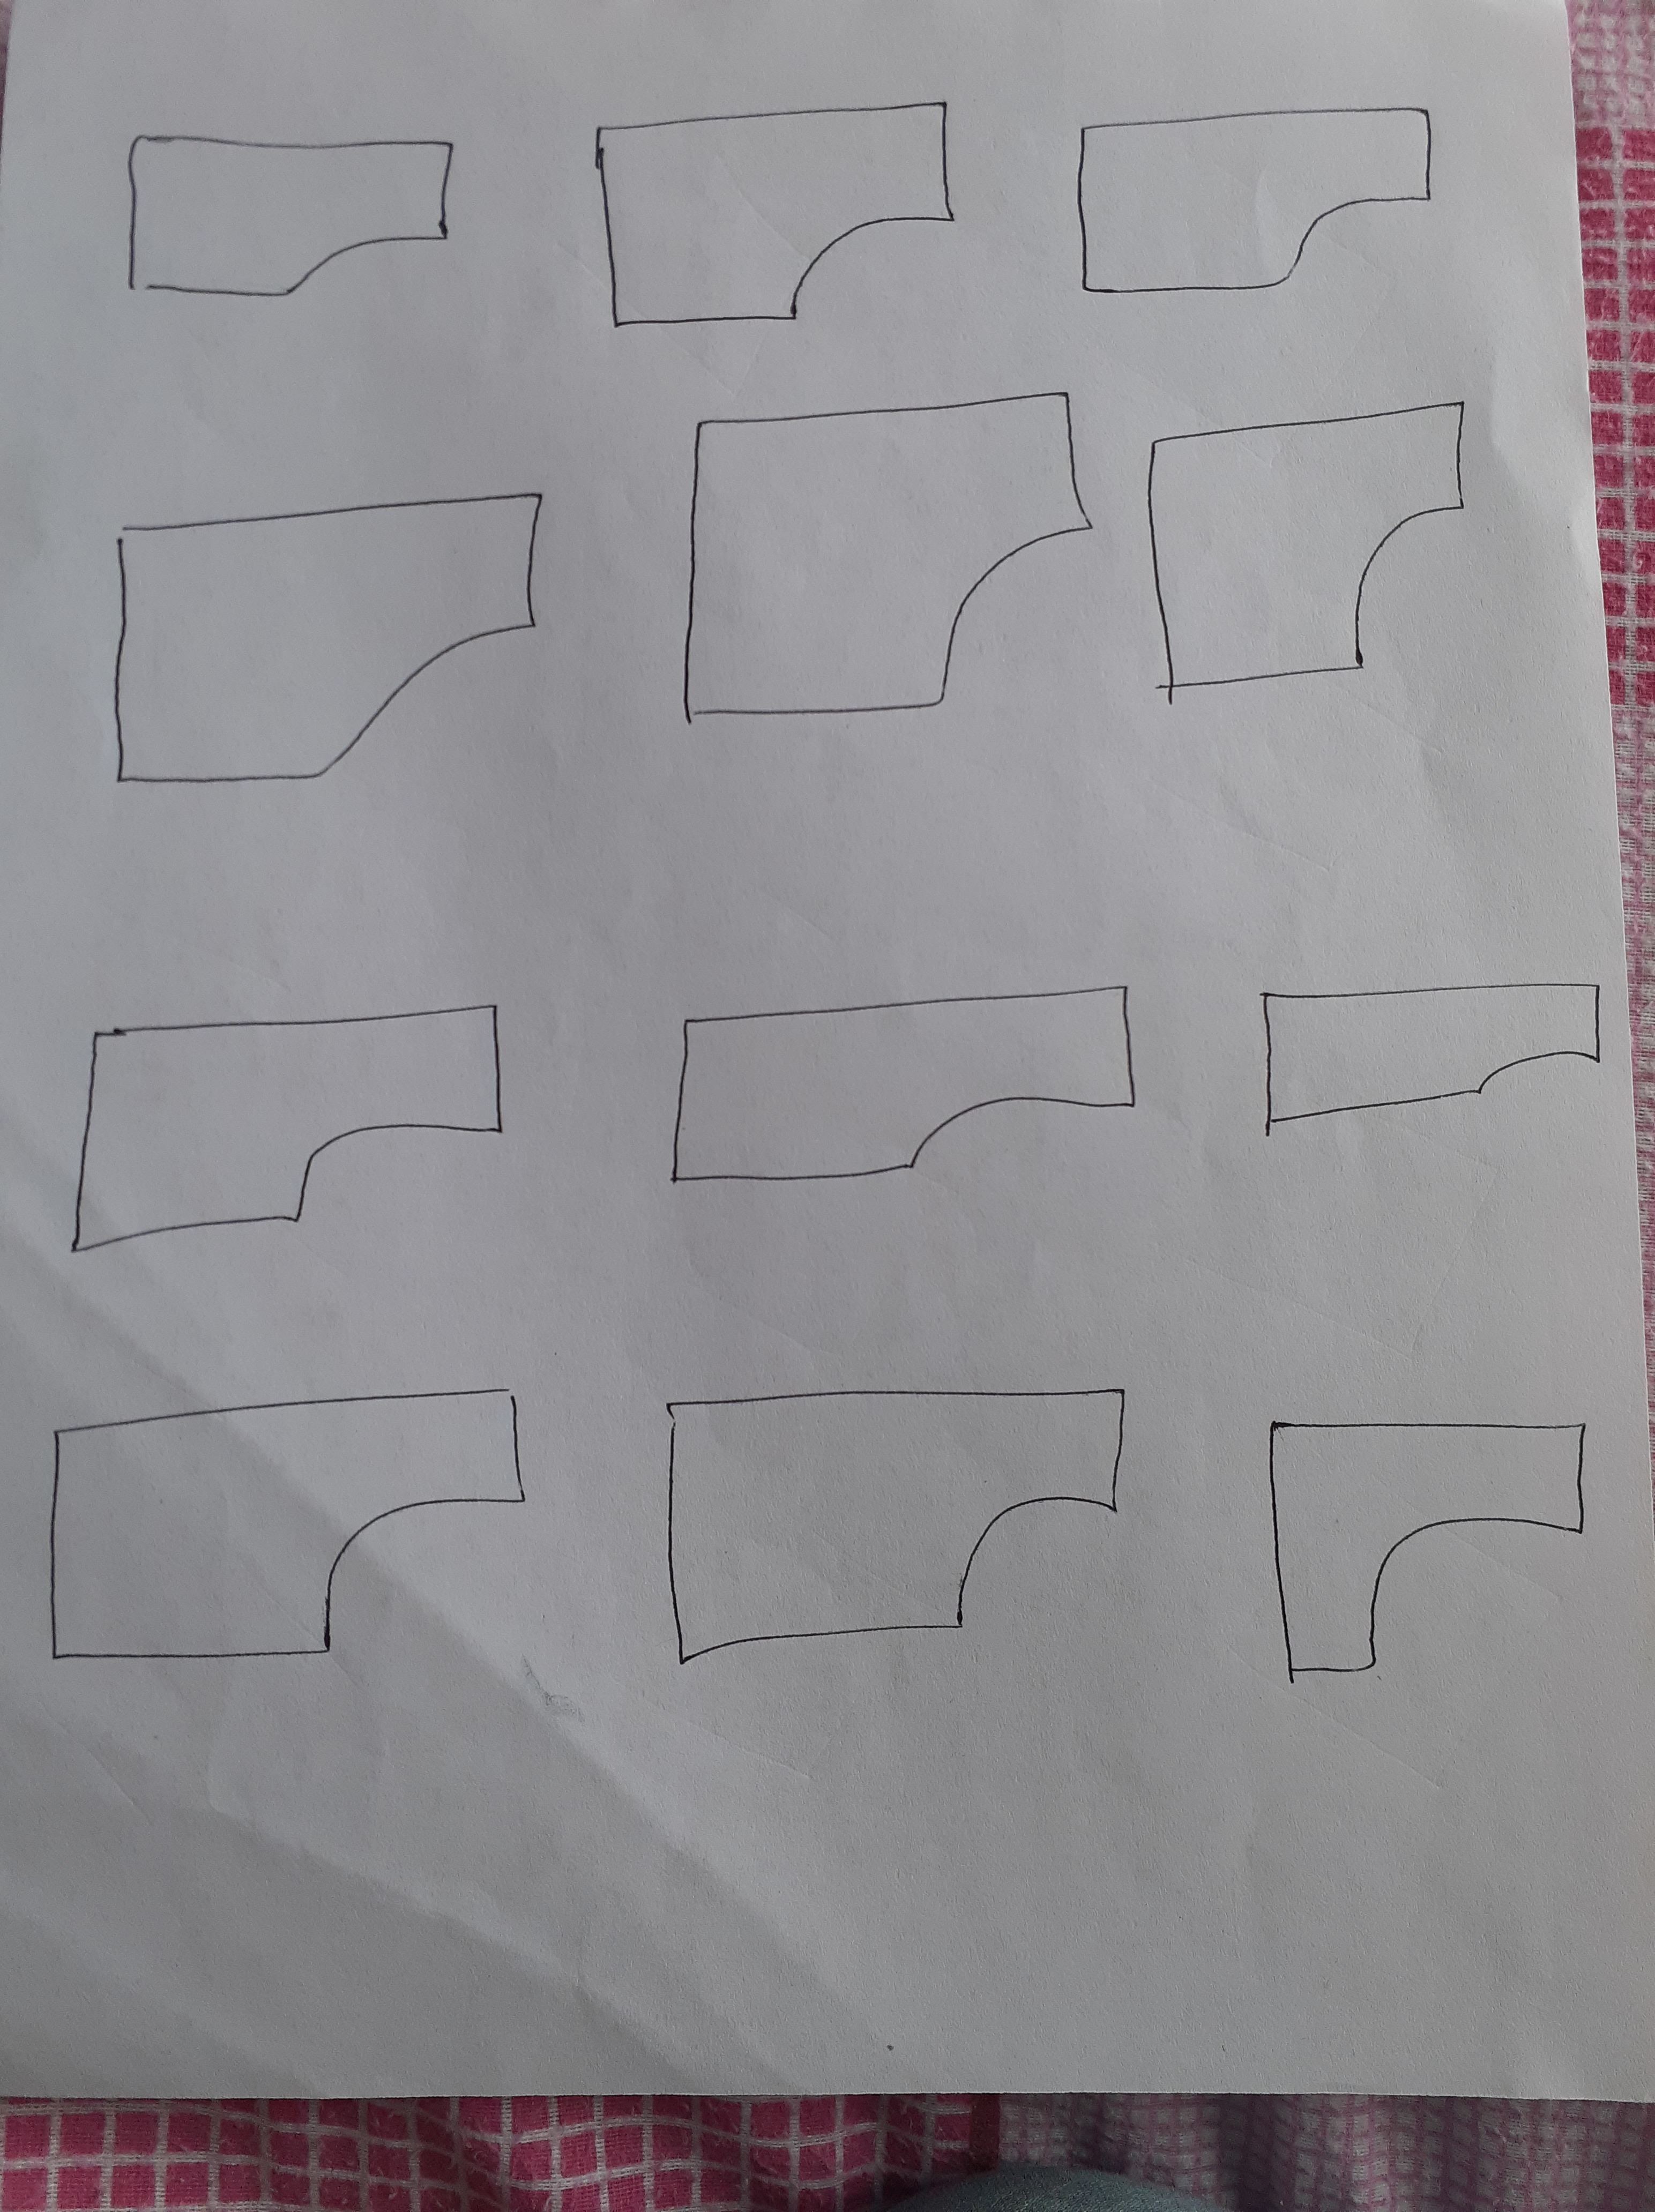print: (85, 443, 562, 838), (648, 1343, 1160, 1685), (21, 1374, 537, 1699), (668, 379, 1107, 747), (635, 956, 1154, 1235), (45, 985, 530, 1267), (1234, 1347, 1603, 1701), (1133, 382, 1492, 721), (96, 75, 483, 356), (1074, 40, 1441, 335), (565, 78, 974, 332), (1224, 921, 1610, 1183)
